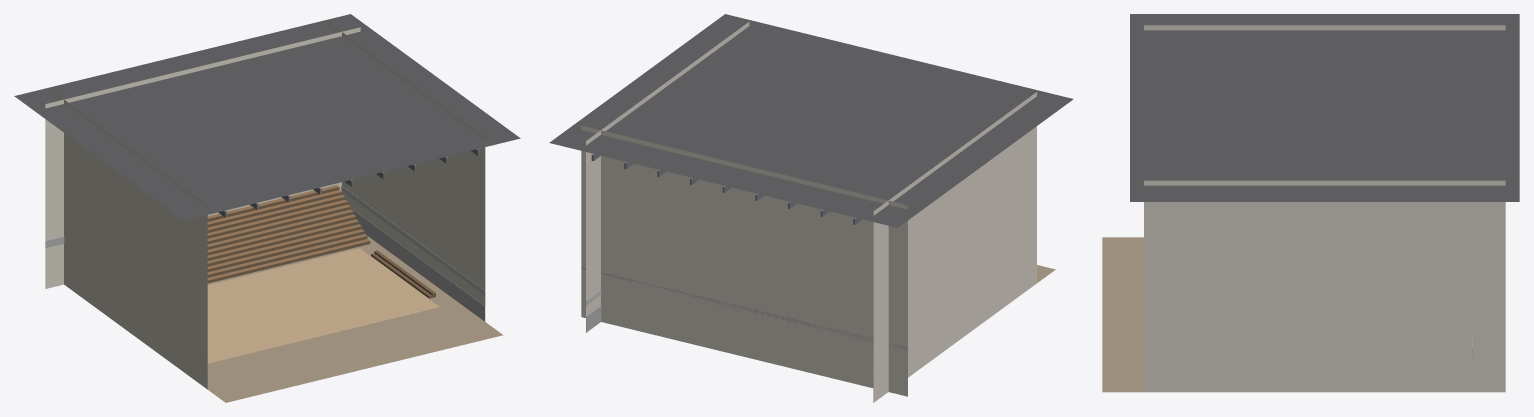
Rendered from gym.eeb659c1.glb.
3 views of the same model, side by side, from view 1: azimuth 30°, elevation 25°; view 2: azimuth 150°, elevation 25°; view 3: azimuth 270°, elevation 25° (orthographic). The views are drawn at different scales.
Parts seen in each view (by area): view 1: gym_shell, gym_floor; view 2: gym_shell; view 3: gym_shell, gym_floor.
Part boxes in pixels (bbox=[...]): gym_shell: bbox=[14, 14, 520, 389]; gym_floor: bbox=[207, 234, 502, 402]; gym_shell: bbox=[549, 14, 1073, 402]; gym_shell: bbox=[1130, 14, 1519, 392]; gym_floor: bbox=[1102, 237, 1143, 392].
Bounding box in the file's own units: 160 × 84.03 × 150.
